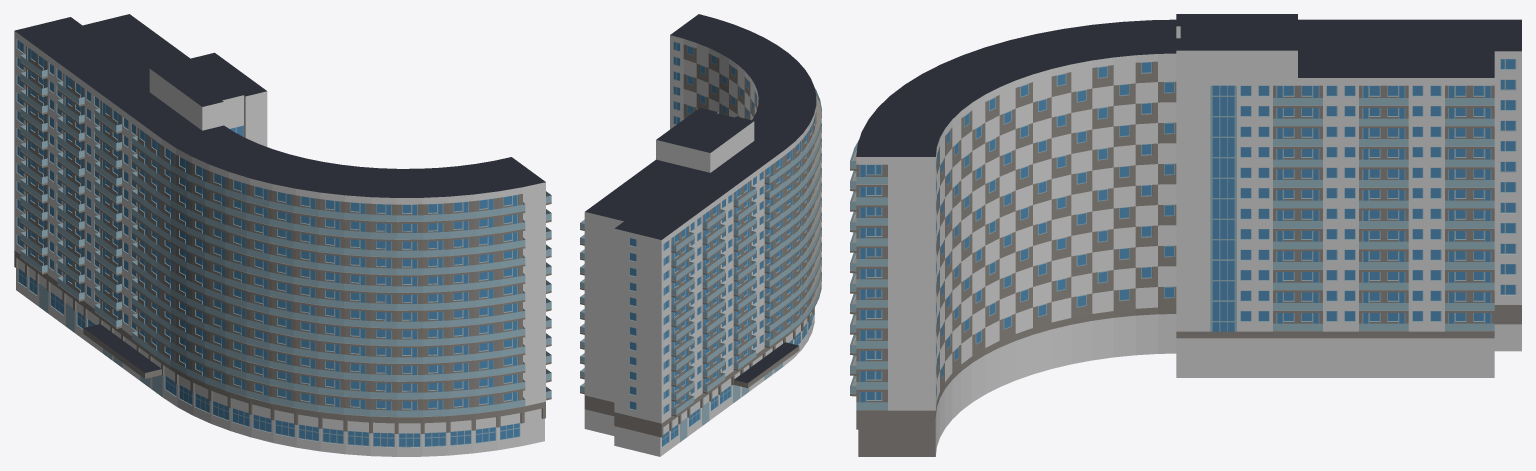
The picture shows the model from 3 angles, left to right: view 1: azimuth 30°, elevation 25°; view 2: azimuth 150°, elevation 25°; view 3: azimuth 270°, elevation 25°; orthographic projection. The views are drawn at different scales.
Parts seen in each view (by area): view 1: segment_01, segment_01_roof; view 2: segment_01, segment_01_roof, segment_01-2; view 3: segment_01, segment_01_roof, segment_01-2.
Boxes of the visible parts, box(x1,y1,x2,y2) form: segment_01: box(14, 37, 551, 419); segment_01_roof: box(14, 14, 545, 456); segment_01: box(580, 40, 821, 423); segment_01_roof: box(584, 14, 816, 456); segment_01-2: box(683, 44, 758, 120); segment_01: box(850, 59, 1521, 412); segment_01_roof: box(856, 14, 1521, 456); segment_01-2: box(937, 61, 1176, 399).
Size of the model in its own units: 4711 by 4792 by 8910.
